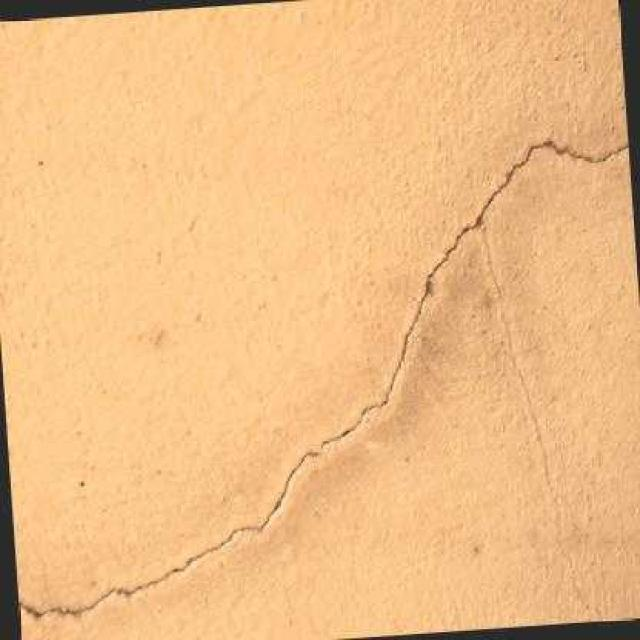D00: (19, 138, 629, 618)
